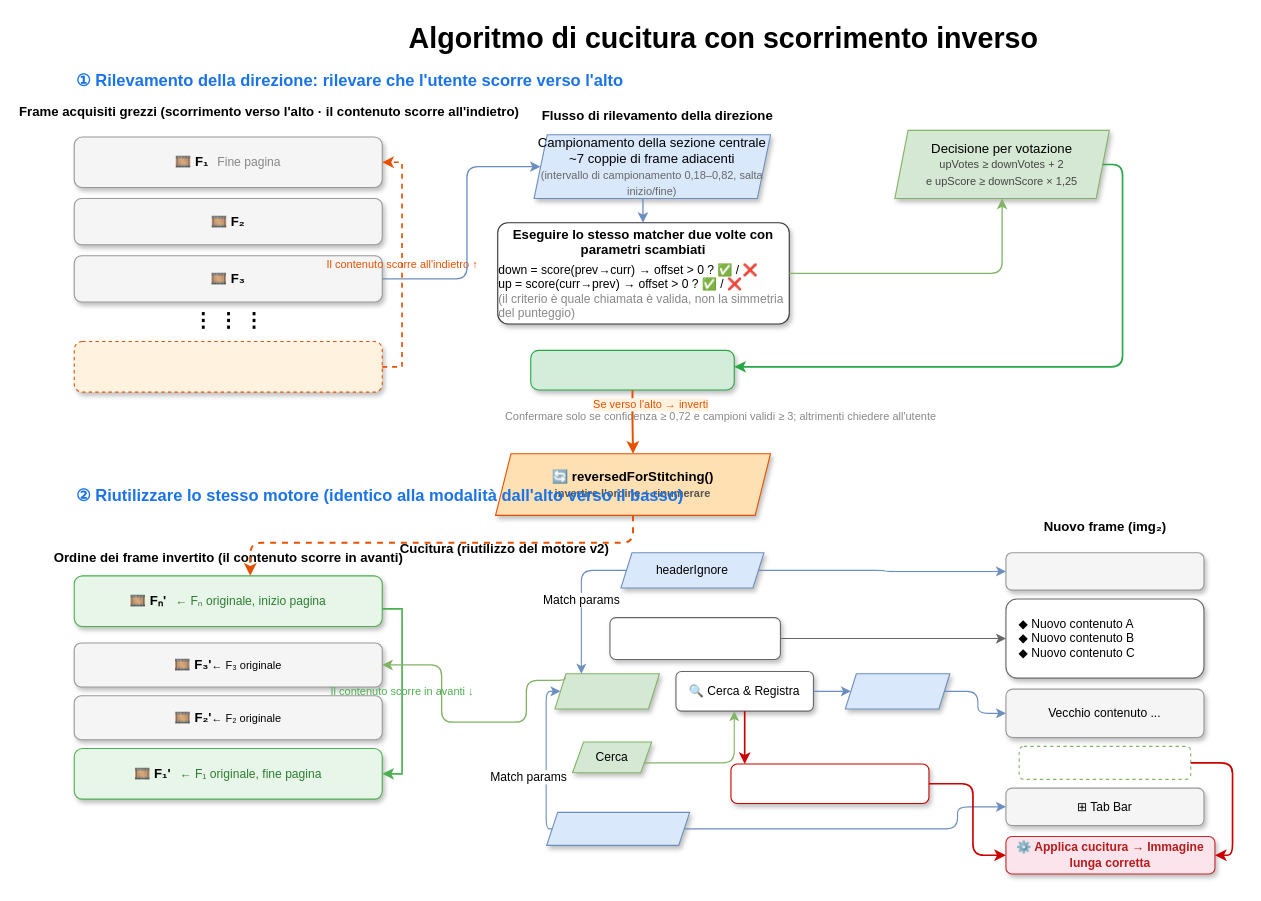
The diagram is 1261 pixels wide and 901 high, and some of its shapes have lost their labels. Each missing label, with the centre of its shape:
Abbina modello: (607,692)
Campionamento equidistante dei frame + nitidezza: (695,639)
footerIgnore: (618,830)
Intervallo di ricerca: (898,692)
Trovato qui! ✅: (1104,762)
✅ Verdetto: scorrimento verso l'alto: (633,371)
🎞️ Fₙ Inizio pagina: (229,368)
🎬 Barra di stato / Navigazione: (1105,572)
🔍 Offset registrato (offset): (830,784)
